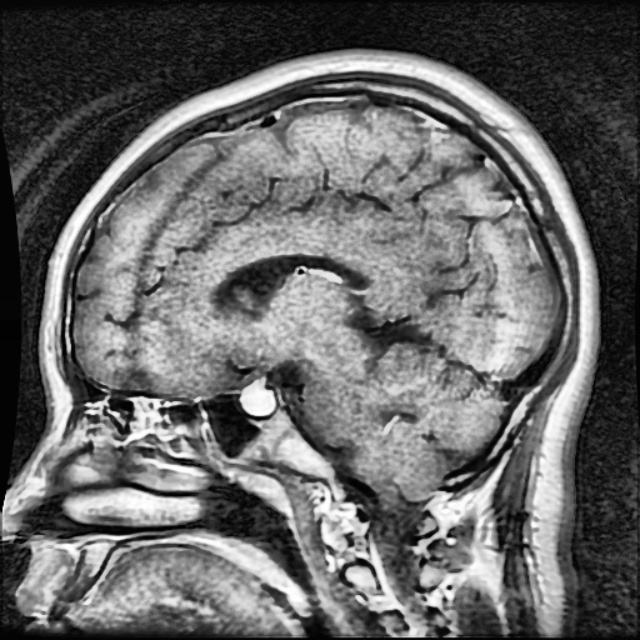Pituitary: (239, 382, 274, 415)
